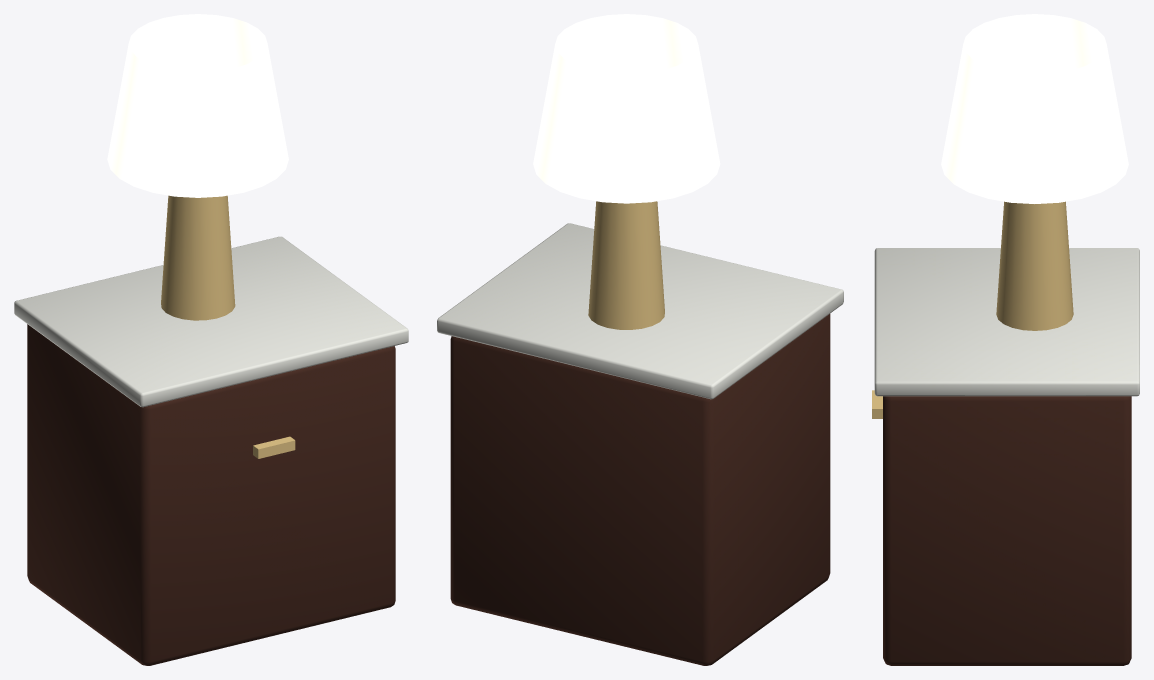
Rendered from fur_nightstand.glb.
3 views of the same model, side by side, from view 1: azimuth 30°, elevation 25°; view 2: azimuth 150°, elevation 25°; view 3: azimuth 270°, elevation 25° (orthographic). The views are drawn at different scales.
Visible parts, largest first — view 1: FUR_nightstand; view 2: FUR_nightstand; view 3: FUR_nightstand.
Part boxes in pixels (box(x1,y1,x2,y2)): FUR_nightstand: box(14, 14, 408, 665); FUR_nightstand: box(437, 14, 843, 665); FUR_nightstand: box(872, 14, 1139, 665).
Bounding box in the file's own units: 0.58 × 1.12 × 0.485.
Materials: 3 (1 with a texture image).
